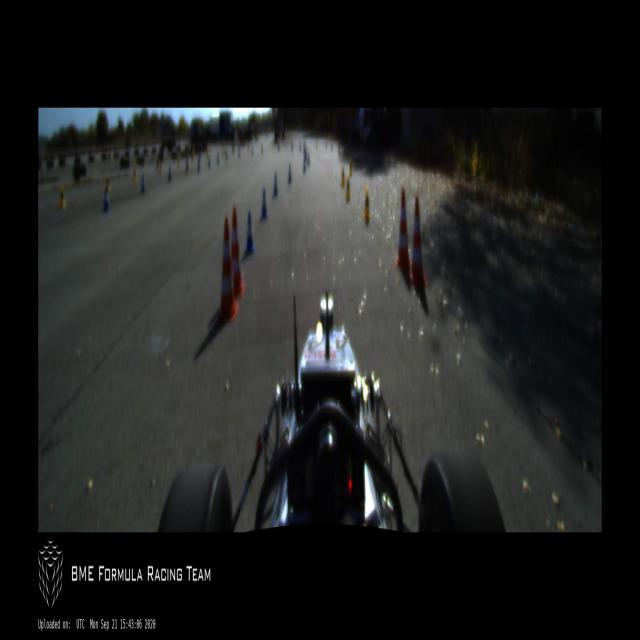blue_cone: (243, 211, 254, 257), (260, 187, 268, 221), (102, 186, 109, 214), (273, 173, 278, 198), (287, 164, 292, 184), (140, 174, 145, 194), (303, 159, 306, 173), (197, 162, 201, 172), (307, 153, 310, 164), (169, 166, 171, 182), (304, 150, 307, 160), (303, 142, 306, 152), (225, 152, 228, 160), (208, 157, 210, 167), (217, 154, 219, 163), (238, 148, 240, 157), (299, 143, 301, 152), (291, 142, 293, 151), (260, 145, 262, 153), (251, 147, 253, 155), (278, 144, 280, 151)
large_orange_cone: (215, 218, 238, 324), (409, 195, 430, 288), (394, 187, 410, 268), (231, 207, 245, 298), (186, 152, 190, 172)
yellow_cone: (362, 187, 370, 222), (58, 185, 67, 209), (345, 174, 351, 201), (105, 172, 111, 194), (340, 164, 345, 187), (348, 157, 353, 175), (132, 166, 136, 183), (160, 163, 163, 177), (177, 154, 180, 166), (338, 146, 341, 156), (232, 144, 235, 154), (221, 149, 224, 158), (206, 152, 209, 160), (330, 142, 332, 150), (326, 140, 328, 148), (248, 144, 250, 152), (316, 140, 317, 148)
